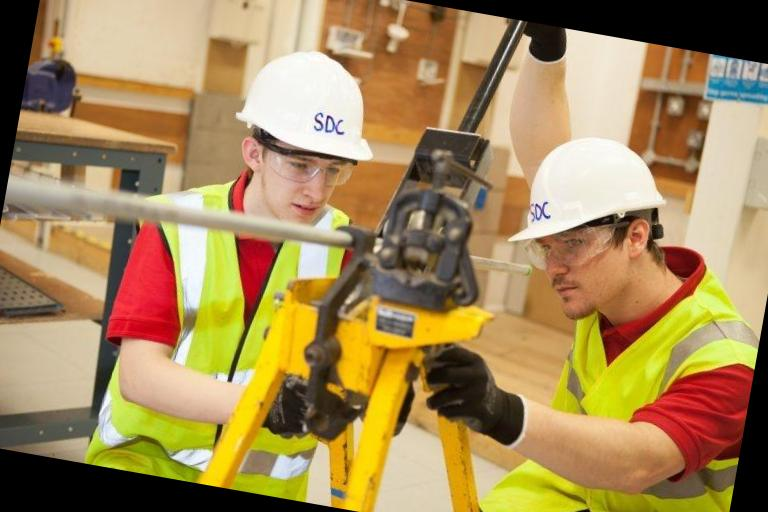Vest: (114, 176, 354, 502), (516, 279, 757, 512)
